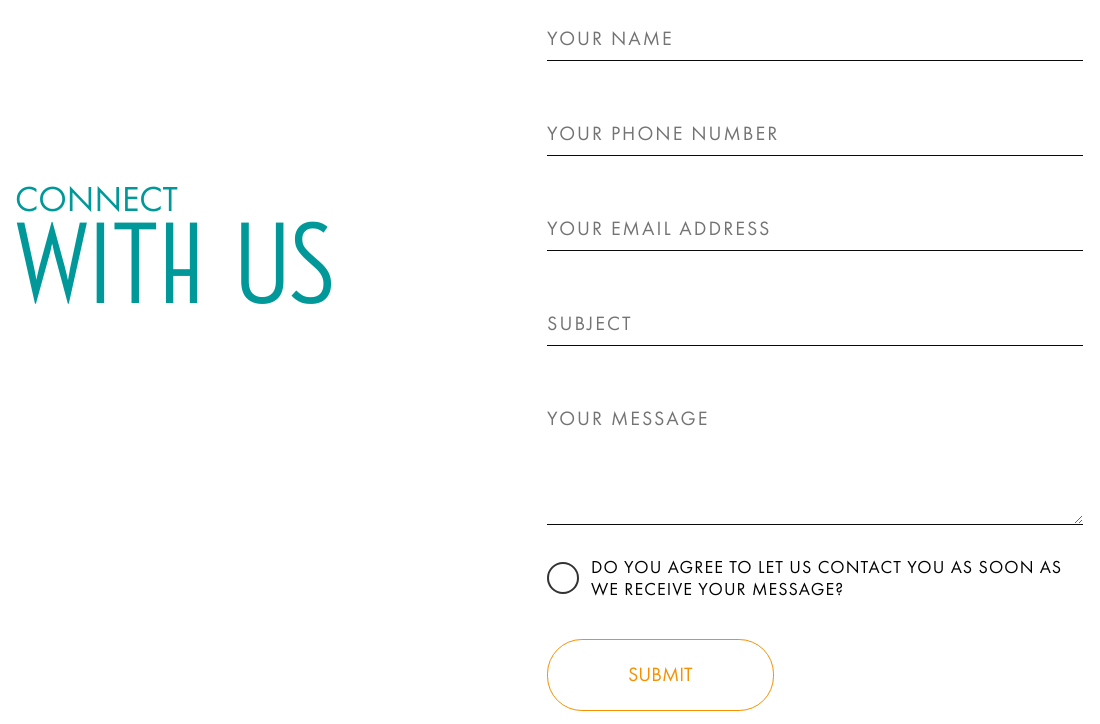
Contact Form Component › Form Validation › should clear errors when user starts typing
// Trigger validation errors
Click the button "Submit": click(660, 675) [547,639,774,711]
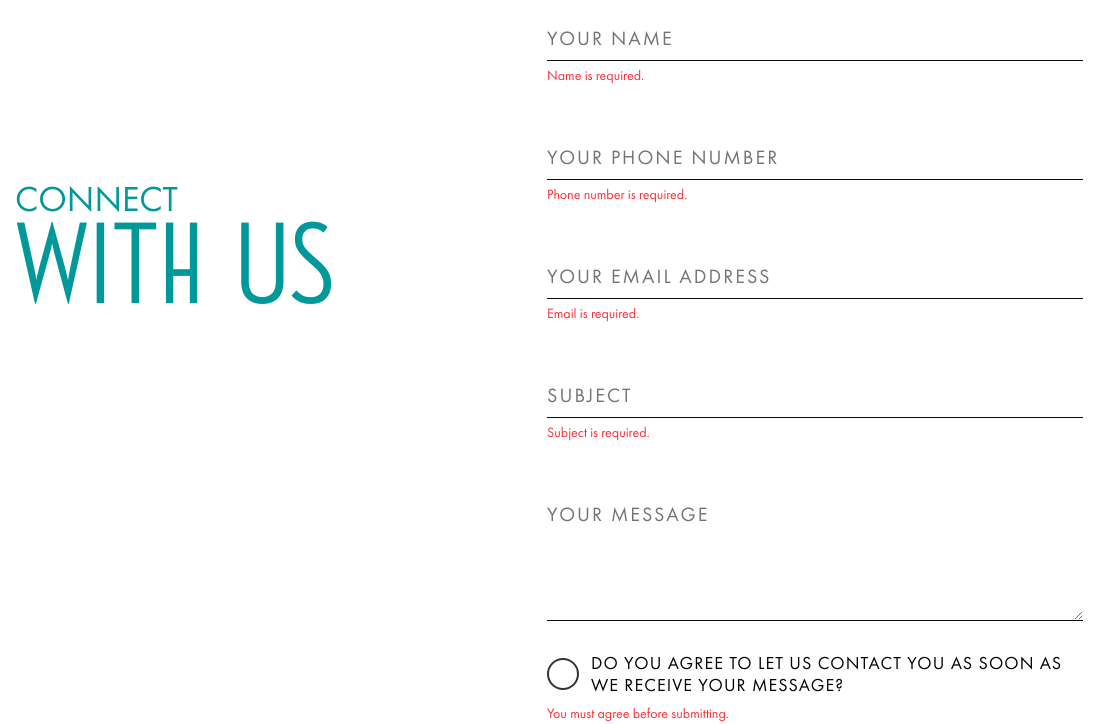
Result: the text "Name is required." is shown at [547,66,644,84]
// Start typing in name field
In the field with placeholder "Your Name": (815, 38) [547,16,1083,61], type "John"
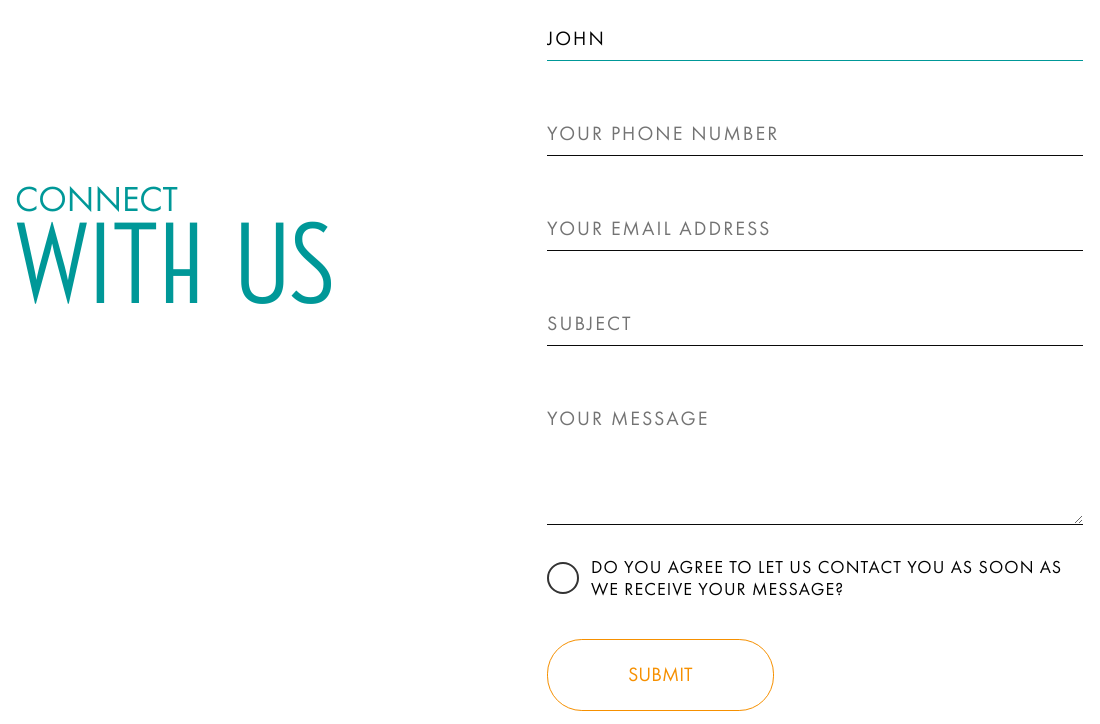
Result: the text "Name is required." is gone
